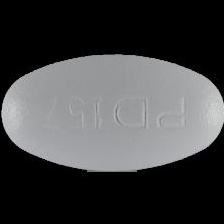68645-460: (0, 0, 224, 224)
